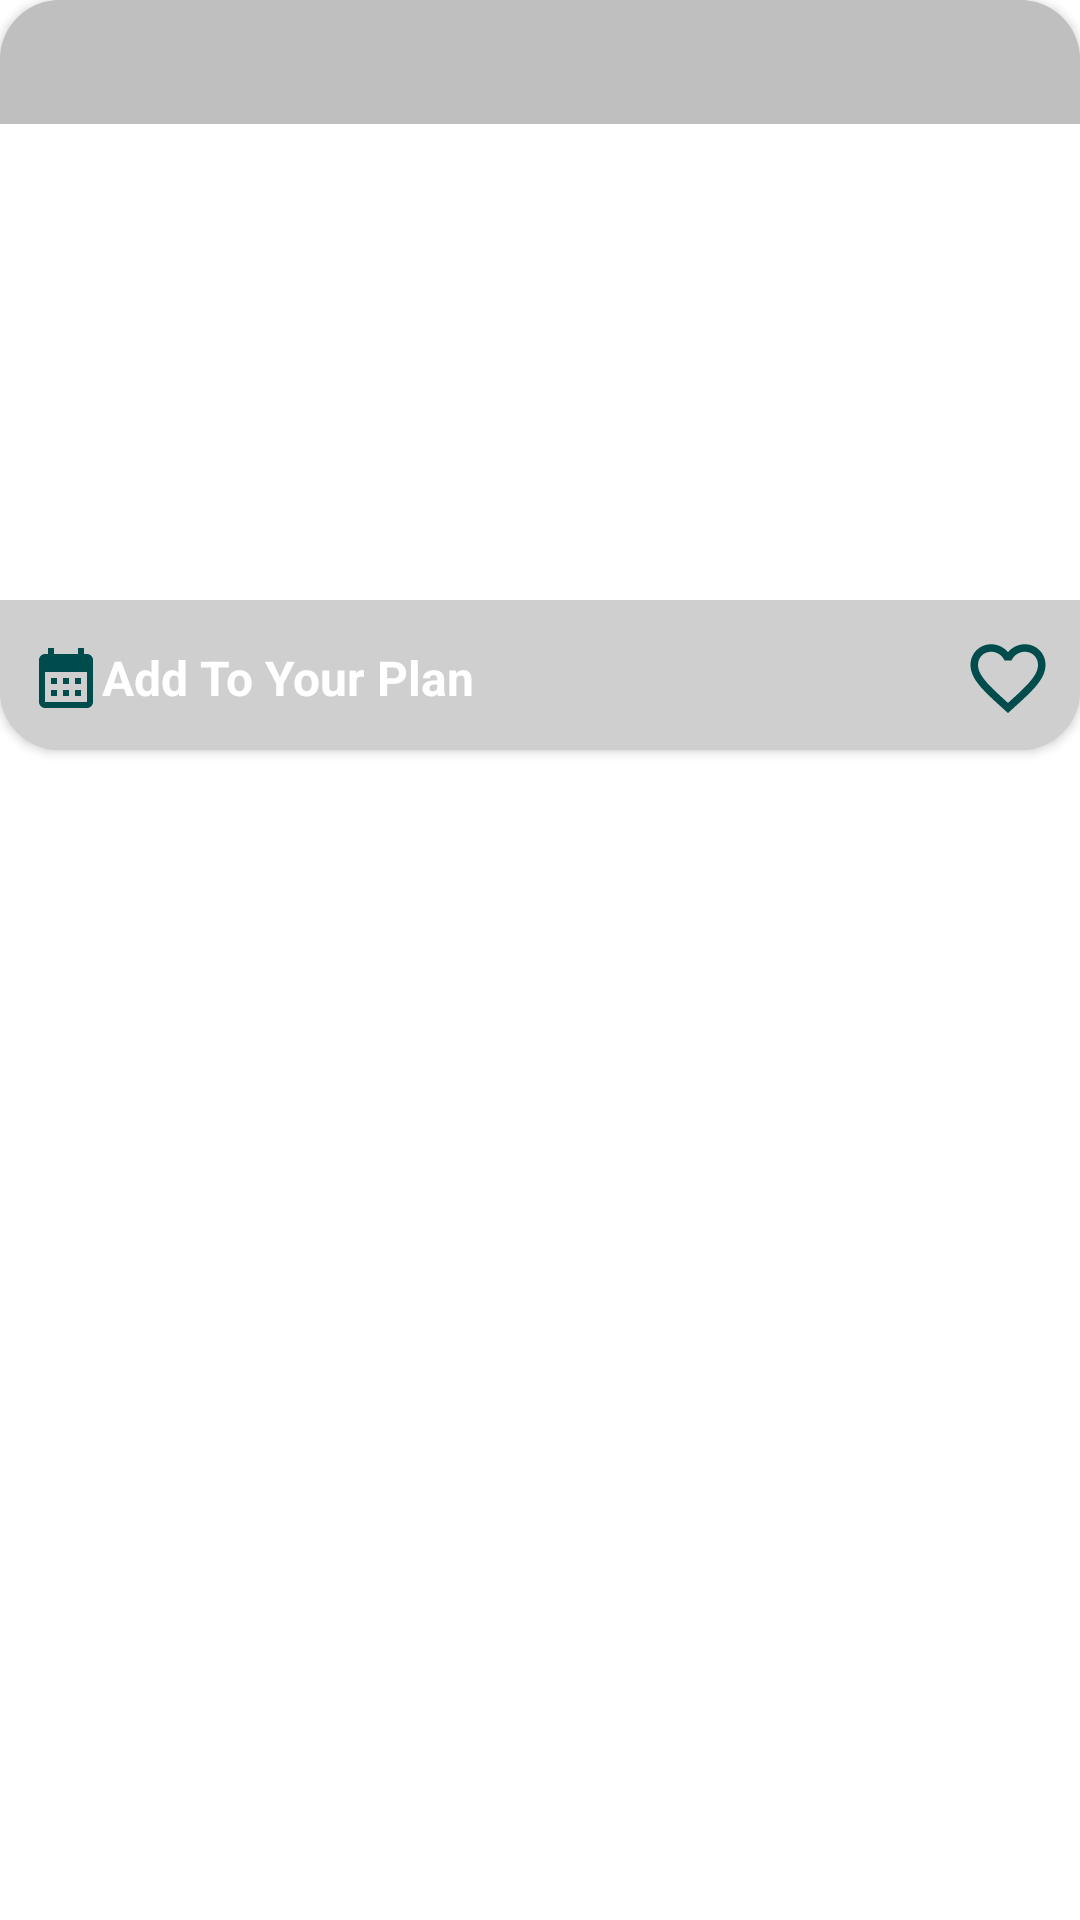

Point at icon controls on the screen. Image size 1080*1920, points as [x,y].
favorite border: [1008,678]
